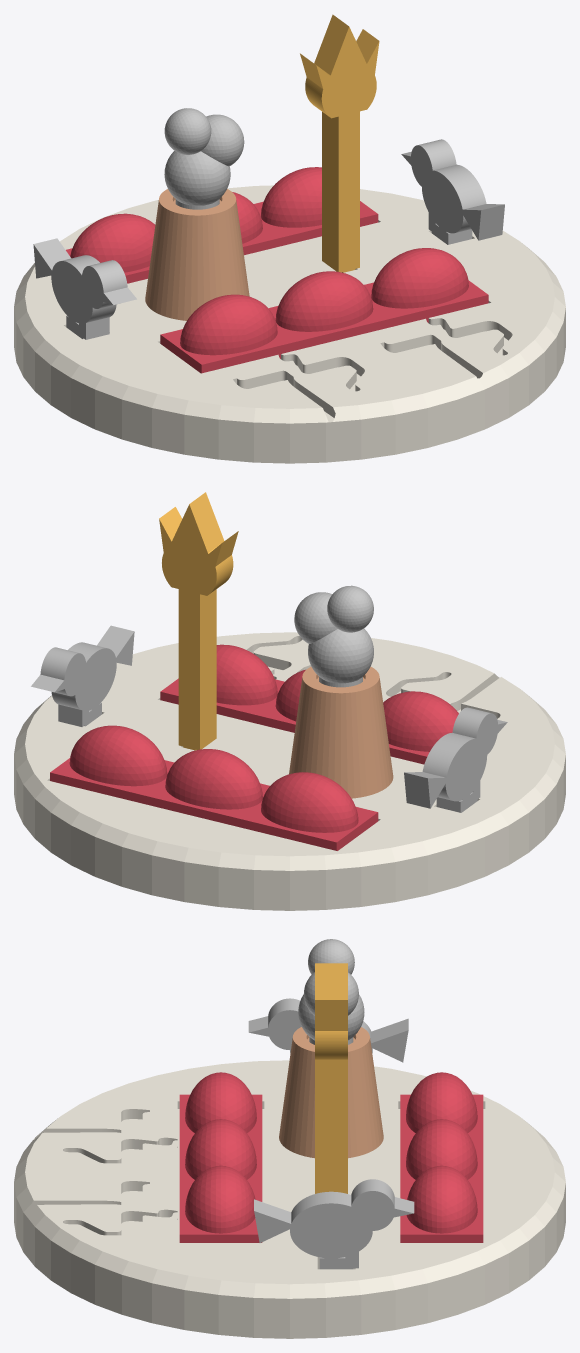
The model's file is lech-lecha.glb.
3 renders of one model, top to bottom at view 1: azimuth 30°, elevation 25°; view 2: azimuth 150°, elevation 25°; view 3: azimuth 270°, elevation 25°, orthographic.
Visible parts, largest first — view 1: stage, halves-2, torch, oven, halves-1, smoke, bird-2, bird-1; view 2: stage, halves-1, torch, oven, halves-2, smoke, bird-1, bird-2; view 3: stage, halves-1, halves-2, bird-2, torch, oven, bird-1, smoke.
Boxes of the visible parts, bbox=[...] form: stage: bbox=[14, 185, 565, 463]; halves-2: bbox=[160, 248, 488, 373]; torch: bbox=[300, 14, 379, 272]; oven: bbox=[145, 189, 249, 320]; halves-1: bbox=[66, 167, 378, 283]; smoke: bbox=[164, 108, 244, 209]; bird-2: bbox=[401, 139, 504, 244]; bird-1: bbox=[33, 238, 136, 339]; stage: bbox=[14, 632, 565, 910]; halves-1: bbox=[50, 725, 378, 850]; torch: bbox=[159, 492, 238, 750]; oven: bbox=[289, 666, 393, 798]; halves-2: bbox=[160, 644, 458, 764]; smoke: bbox=[294, 585, 373, 687]; bird-1: bbox=[404, 707, 507, 812]; bird-2: bbox=[31, 625, 134, 726]; stage: bbox=[14, 1060, 565, 1338]; halves-1: bbox=[400, 1072, 483, 1242]; halves-2: bbox=[179, 1072, 262, 1242]; bird-2: bbox=[254, 1179, 414, 1269]; torch: bbox=[315, 963, 347, 1193]; oven: bbox=[279, 1027, 383, 1158]; bird-1: bbox=[248, 998, 408, 1062]; smoke: bbox=[298, 939, 364, 1044].
Size of the model in its own units: 40 by 23.5 by 40.
